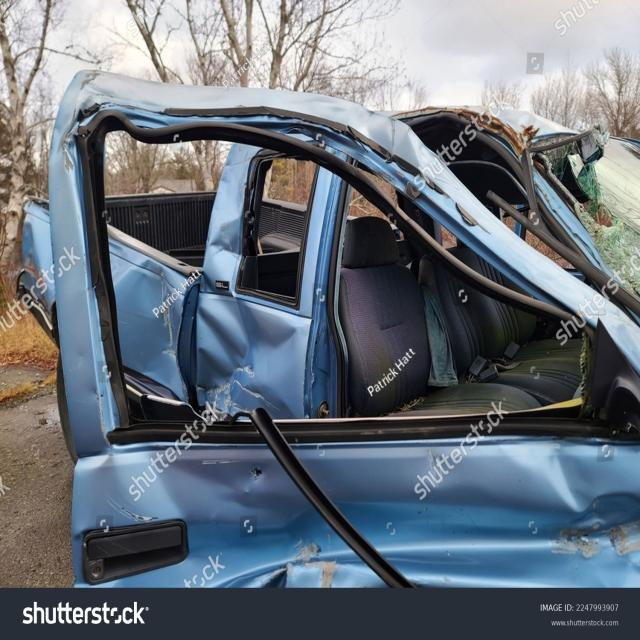crush: (17, 71, 640, 592)
